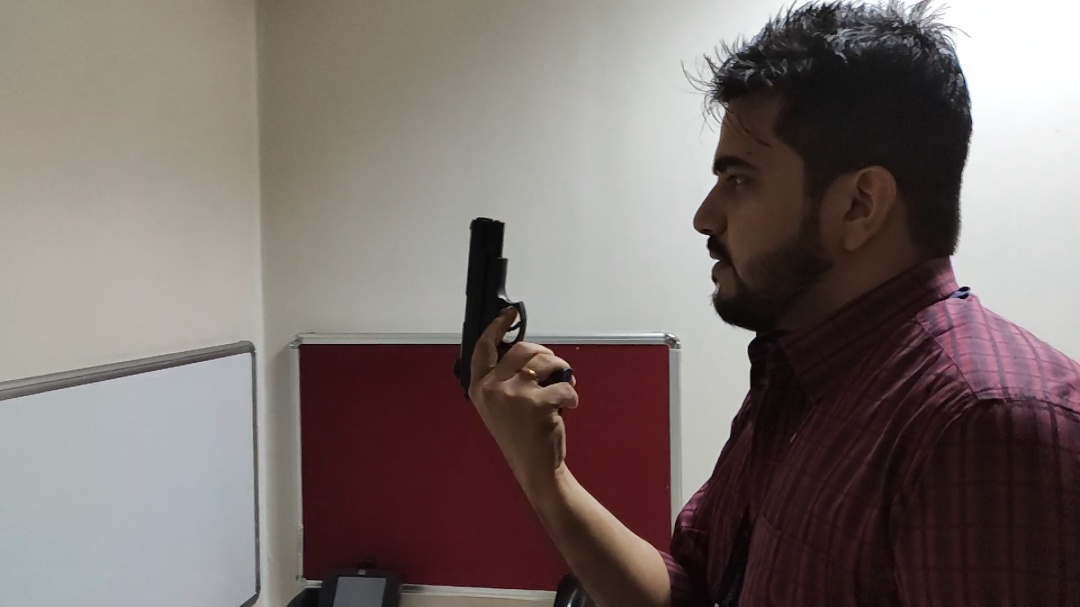gun: (452, 216, 576, 406)
